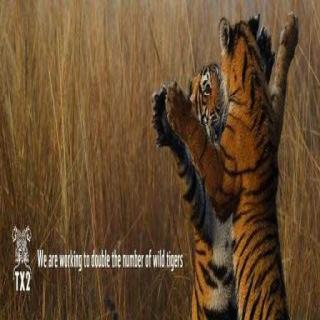Tiger: (165, 12, 301, 320), (150, 62, 236, 320)
